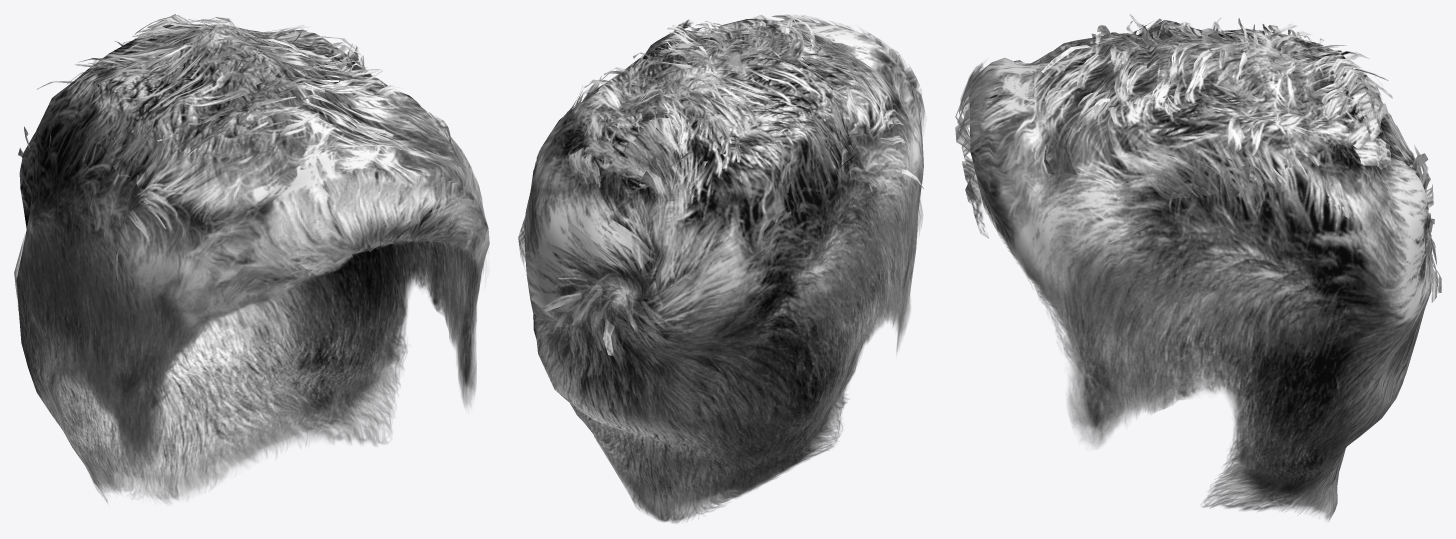
Rendered from hair_short01.gltf.
The picture shows the model from 3 angles, left to right: view 1: azimuth 30°, elevation 25°; view 2: azimuth 150°, elevation 25°; view 3: azimuth 270°, elevation 25°; orthographic projection. The views are drawn at different scales.
Parts seen in each view (by area): view 1: hair_short01; view 2: hair_short01; view 3: hair_short01.
Part boxes in pixels (x1,y1,x2,y2): hair_short01: [14, 14, 489, 505]; hair_short01: [518, 14, 926, 523]; hair_short01: [955, 14, 1441, 521].
Size of the model in its own units: 0.1509 by 0.2016 by 0.1838.
1 material, 1 textured.
